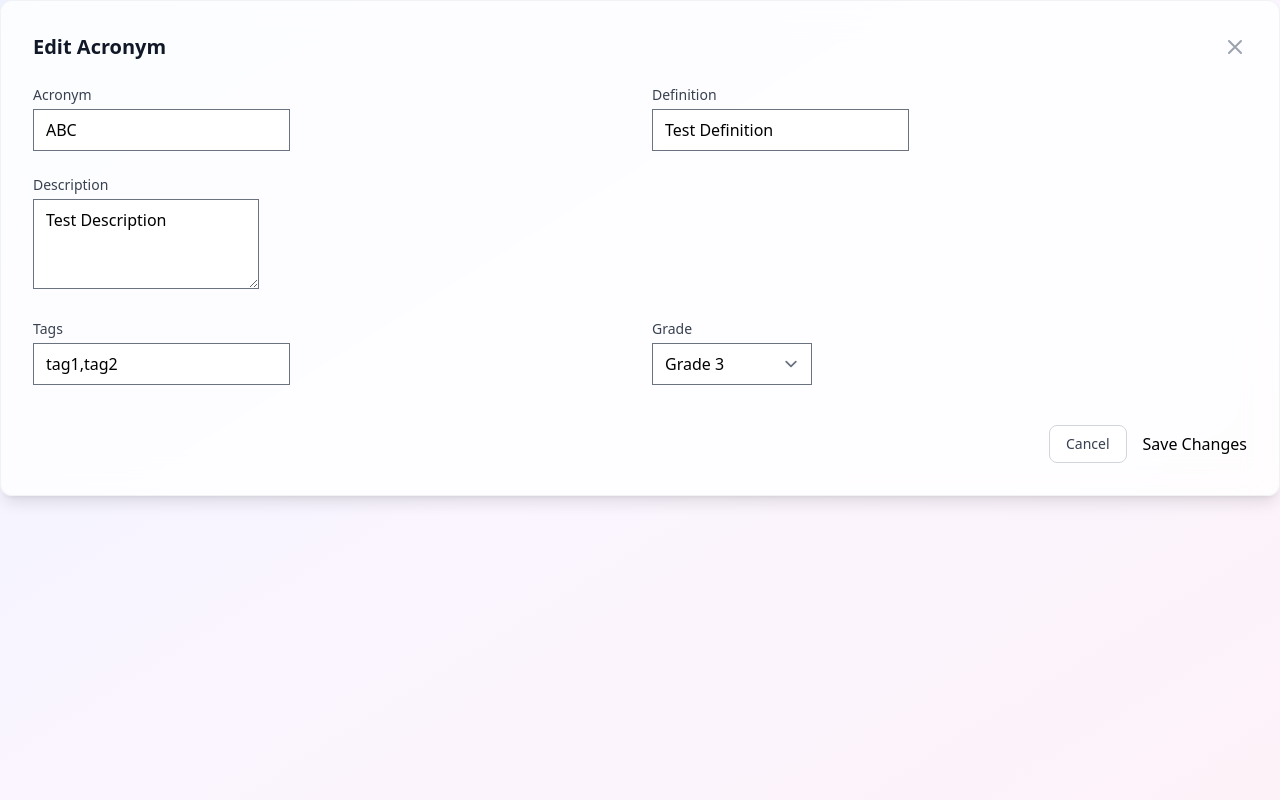
Test: EditAcronym Component › shows validation errors when required fields are empty
Note: Clear required fields
Step 1. Clear the field labelled "Definition" → (780, 130), box [652, 109, 909, 151]
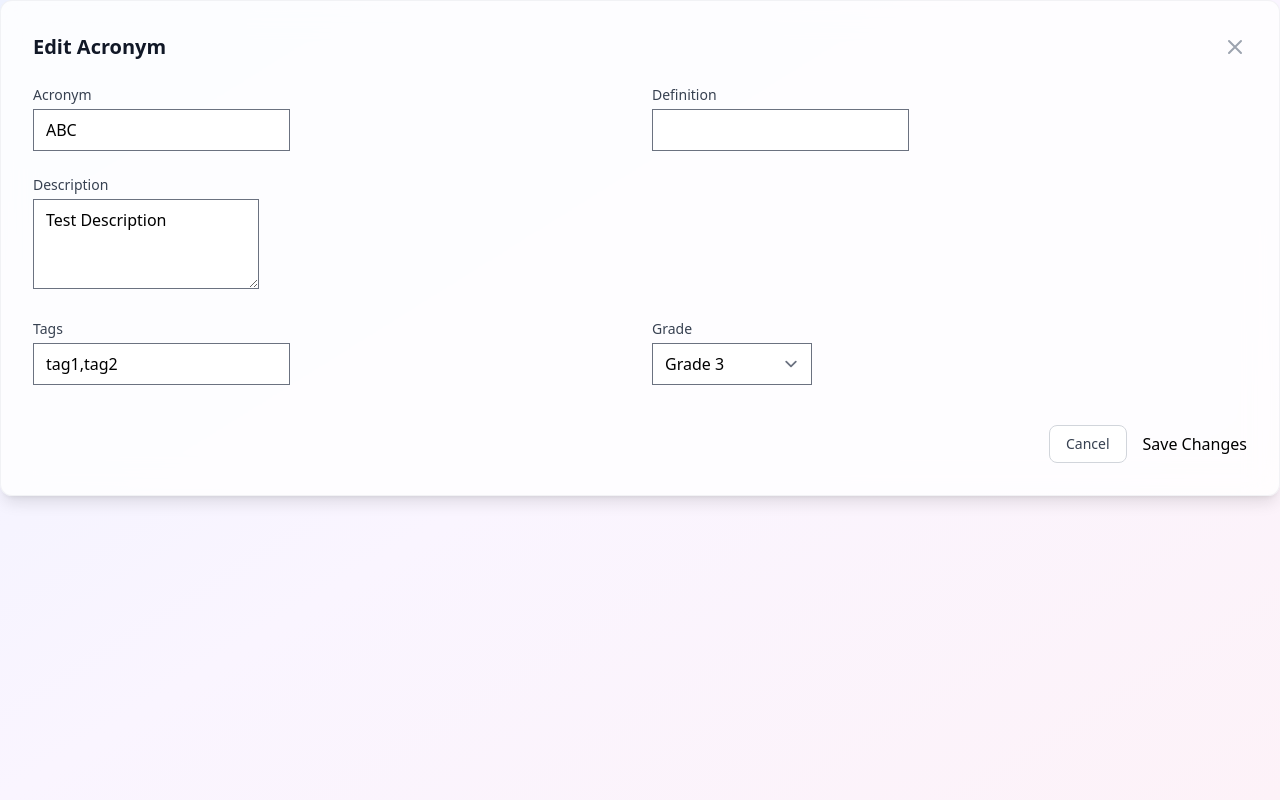
Step 2. Clear the text box labelled "Description" → (146, 244), box [33, 199, 259, 289]
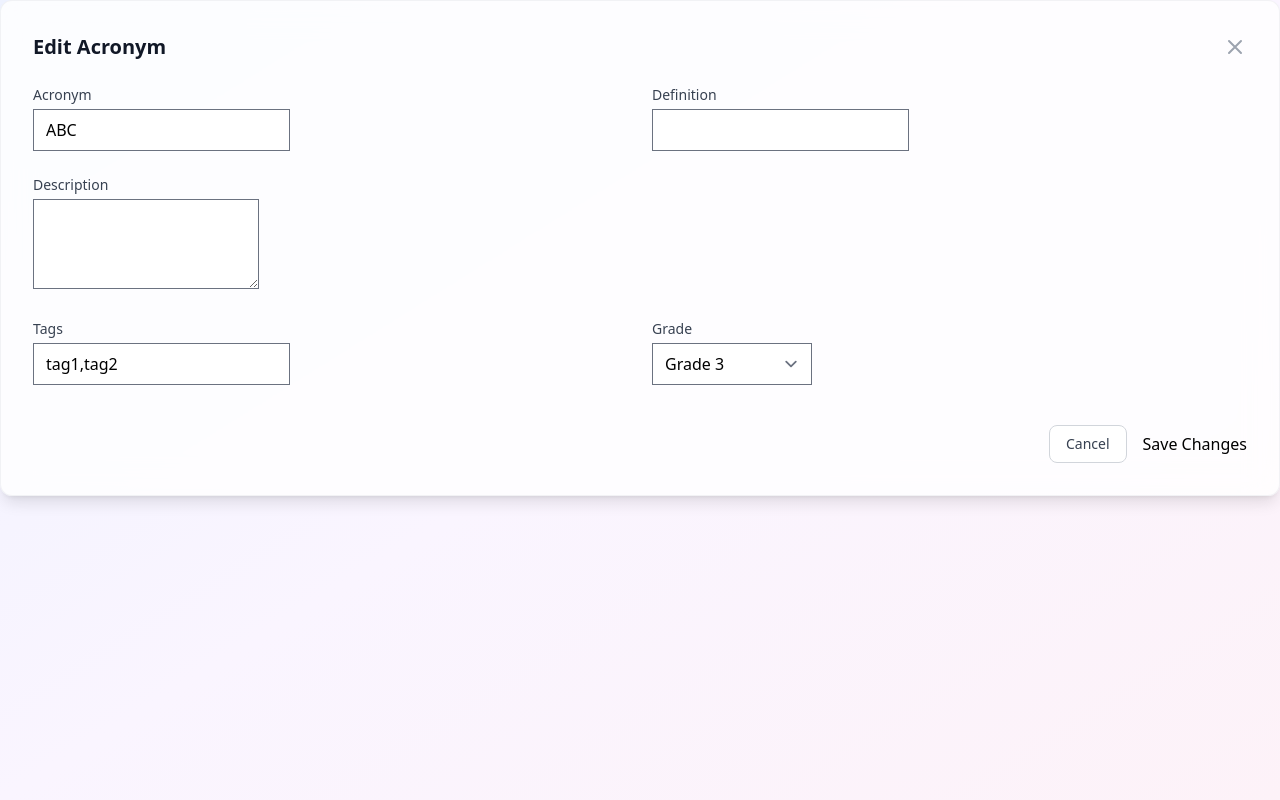
Step 3. Select "Select a grade" in the dropdown labelled "Grade" → (732, 364), box [652, 343, 812, 385]
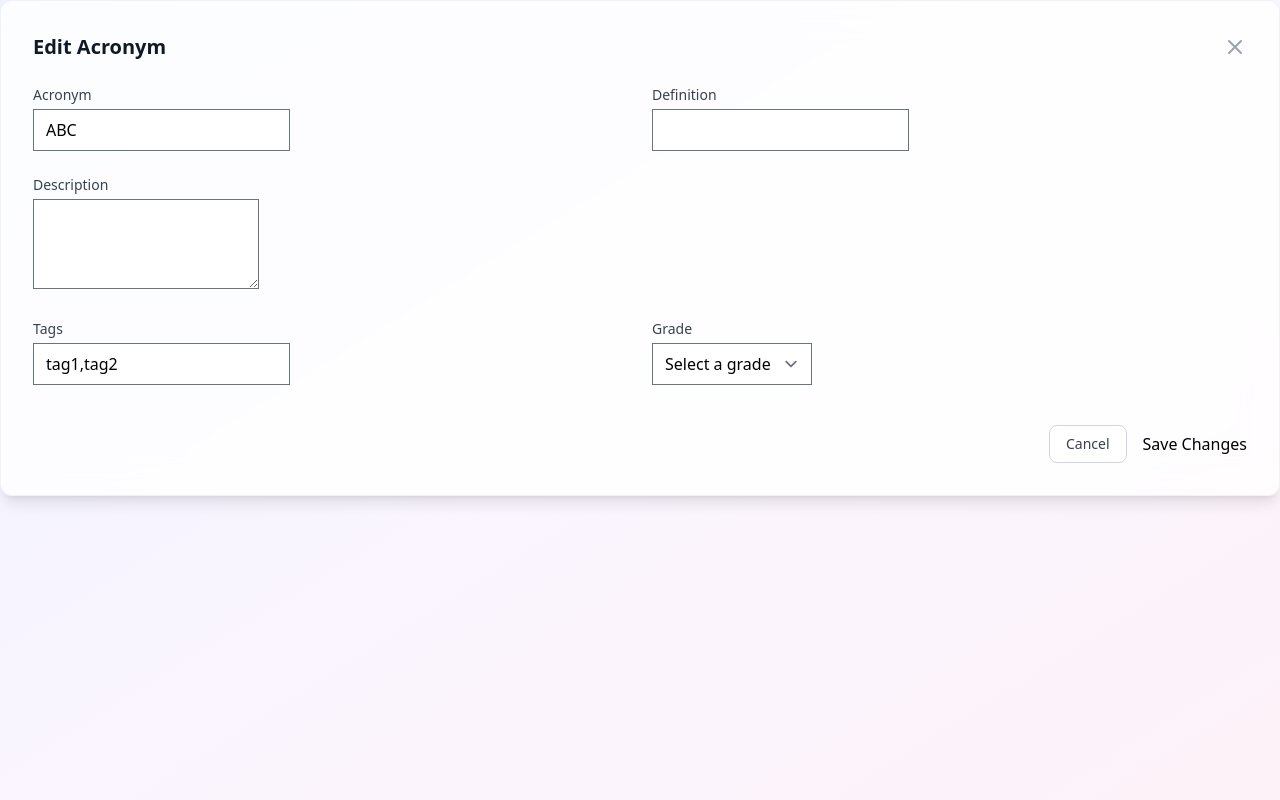
Note: Submit form
Step 4. Submit the form, box [33, 85, 1247, 463]
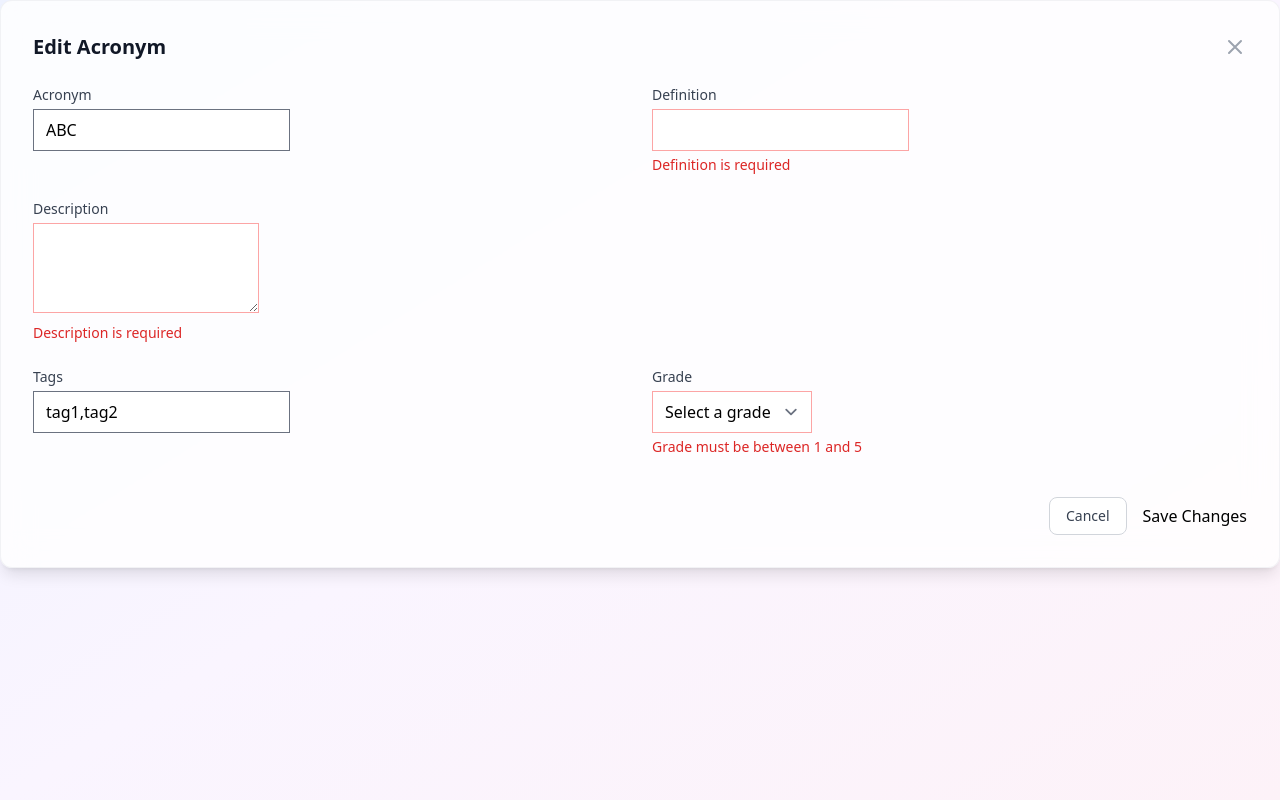
Result: the text "Definition is required" is shown at [652, 155, 790, 174]
Result: the text "Description is required" is shown at [33, 323, 182, 342]
Result: the text "Grade must be between 1 and 5" is shown at [652, 437, 862, 456]
